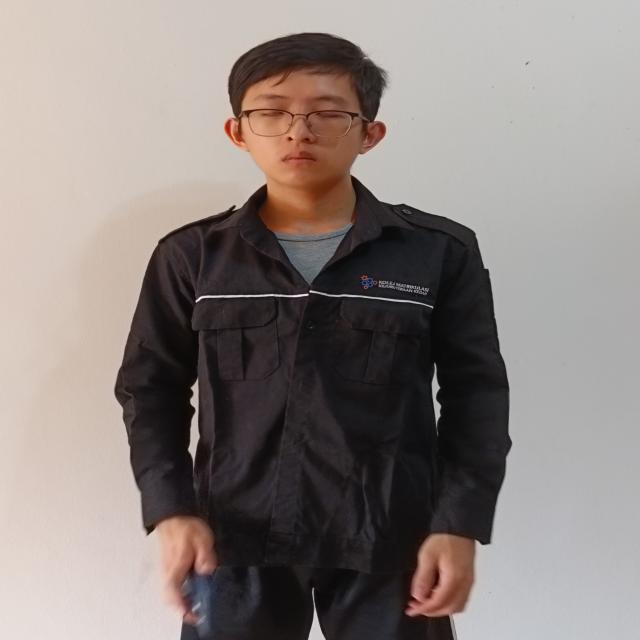person_with_labcoat: (115, 33, 510, 640)
